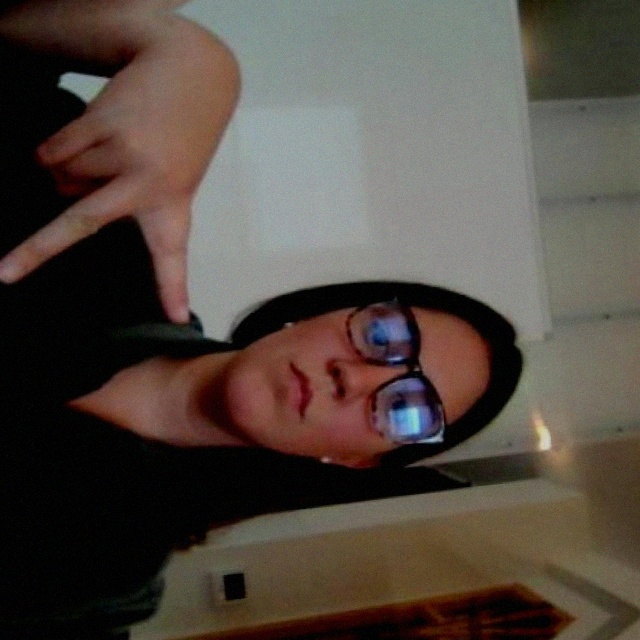Scissors: (0, 39, 271, 344)
